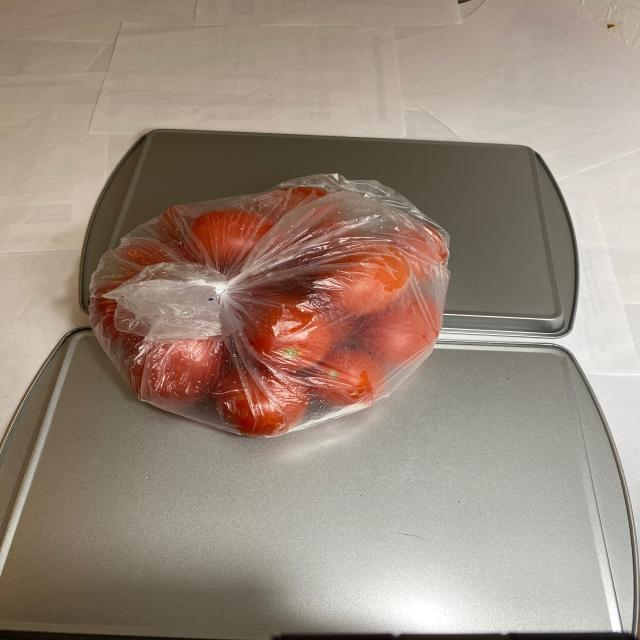tomato: (89, 187, 458, 437)
